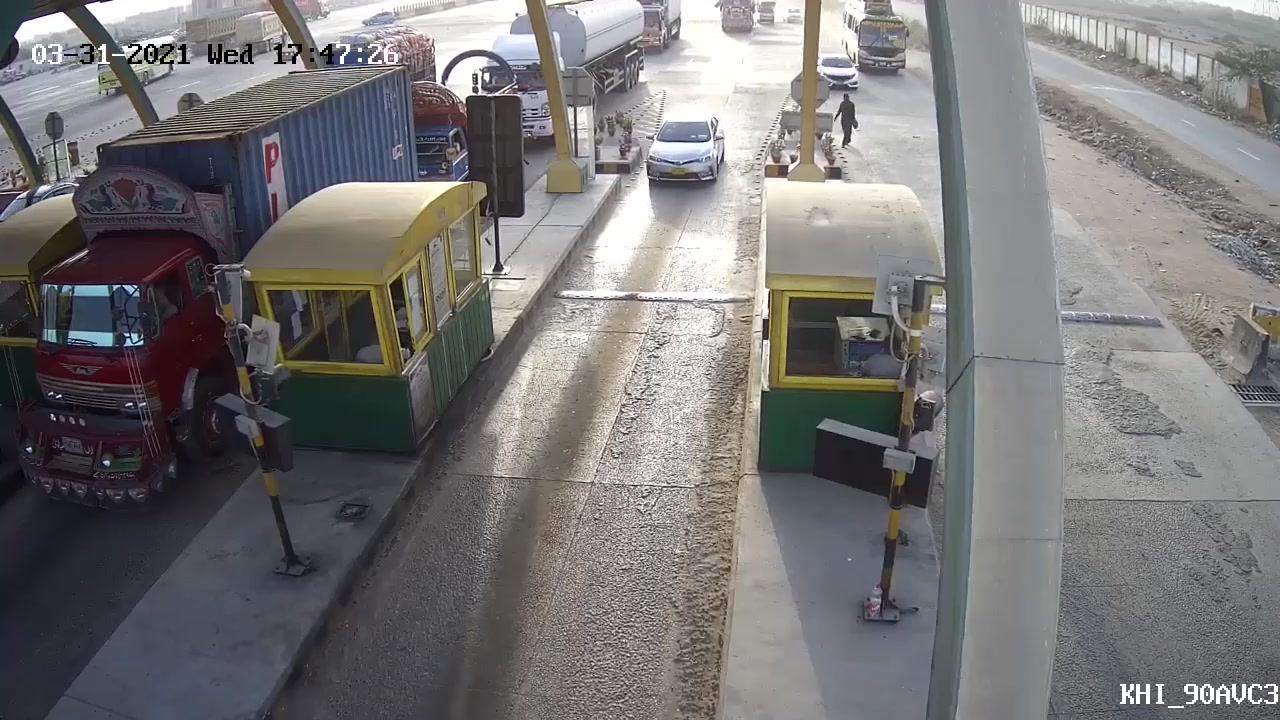F1: (644, 105, 734, 211)
